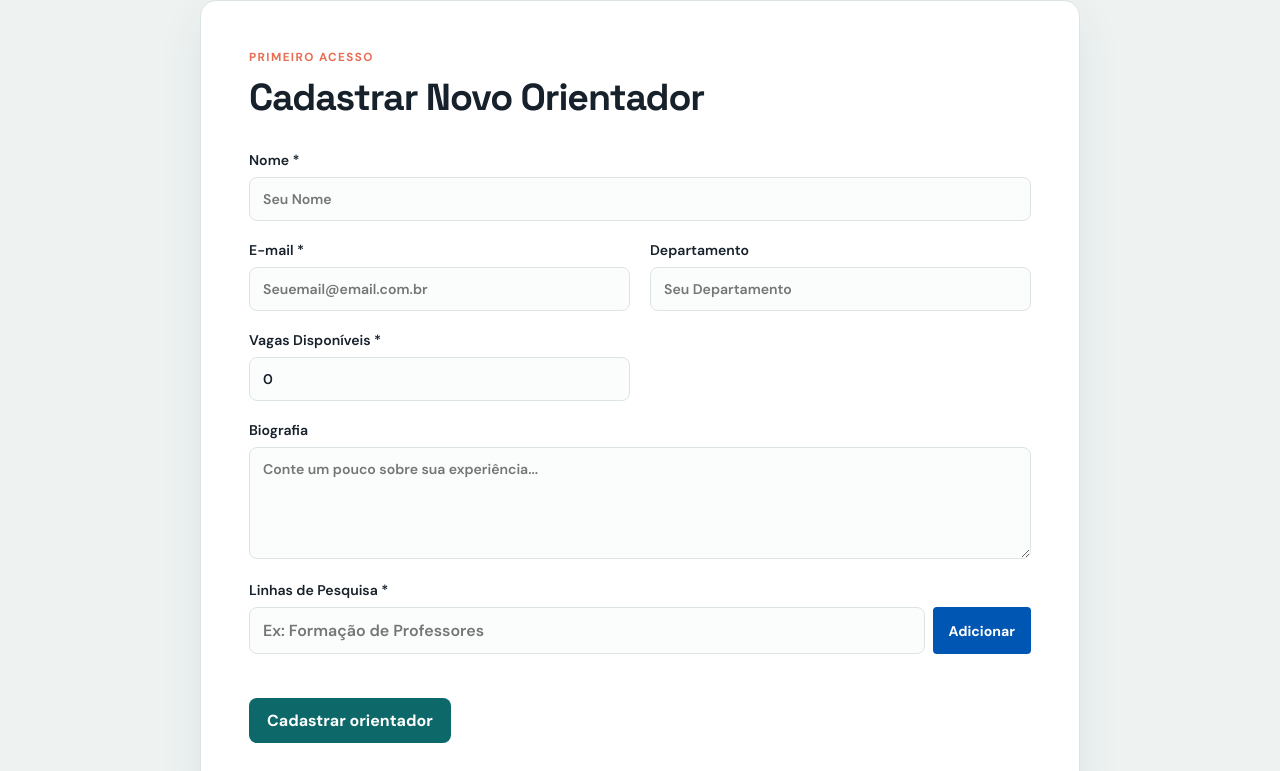
OrientadorForm › deve exibir erros de validação local e bloquear envio se os campos obrigatórios estiverem vazios
This screenshot has width=1280, height=771.
Click the button "Cadastrar orientador".
click(350, 720)  # box [249,698,451,743]
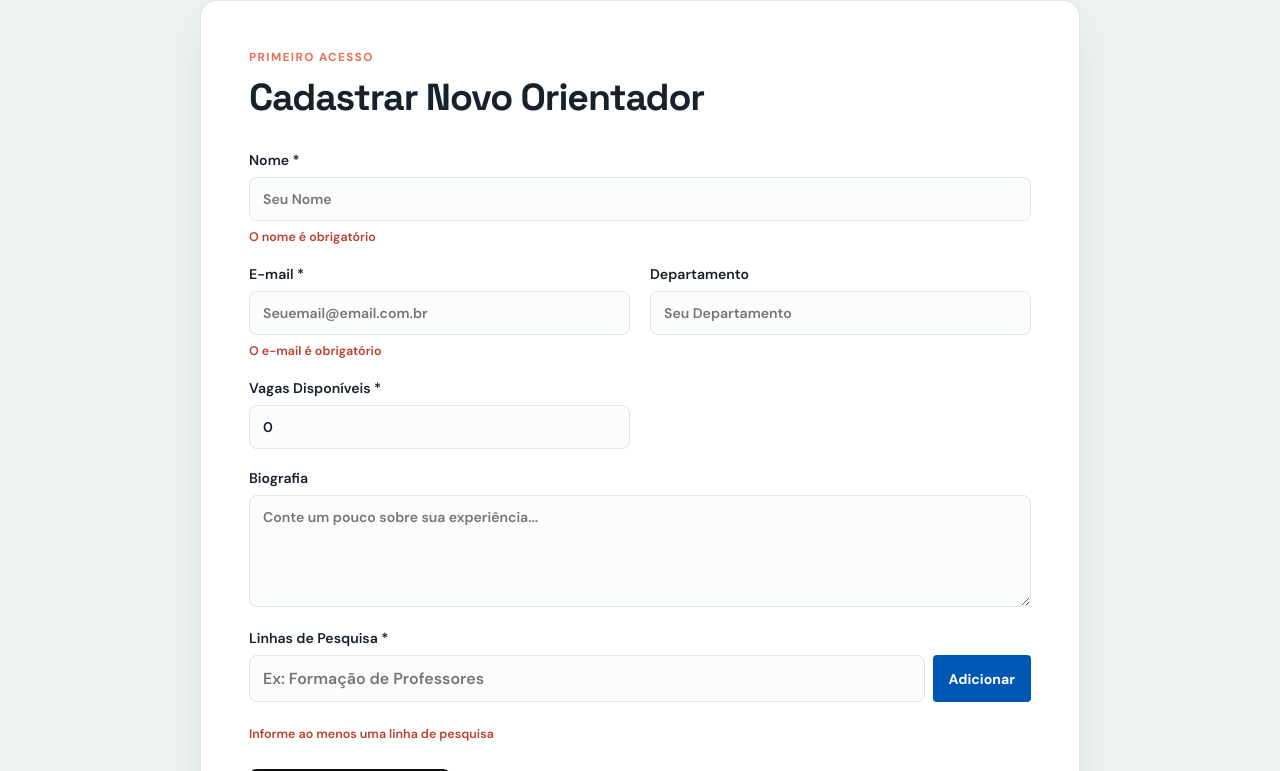
expect the text "O nome é obrigatório" is shown: met, box [249,229,376,245]
expect the text "O e-mail é obrigatório" is shown: met, box [249,343,382,359]
expect the text "Informe ao menos uma linha de pesquisa" is shown: met, box [249,726,494,742]
